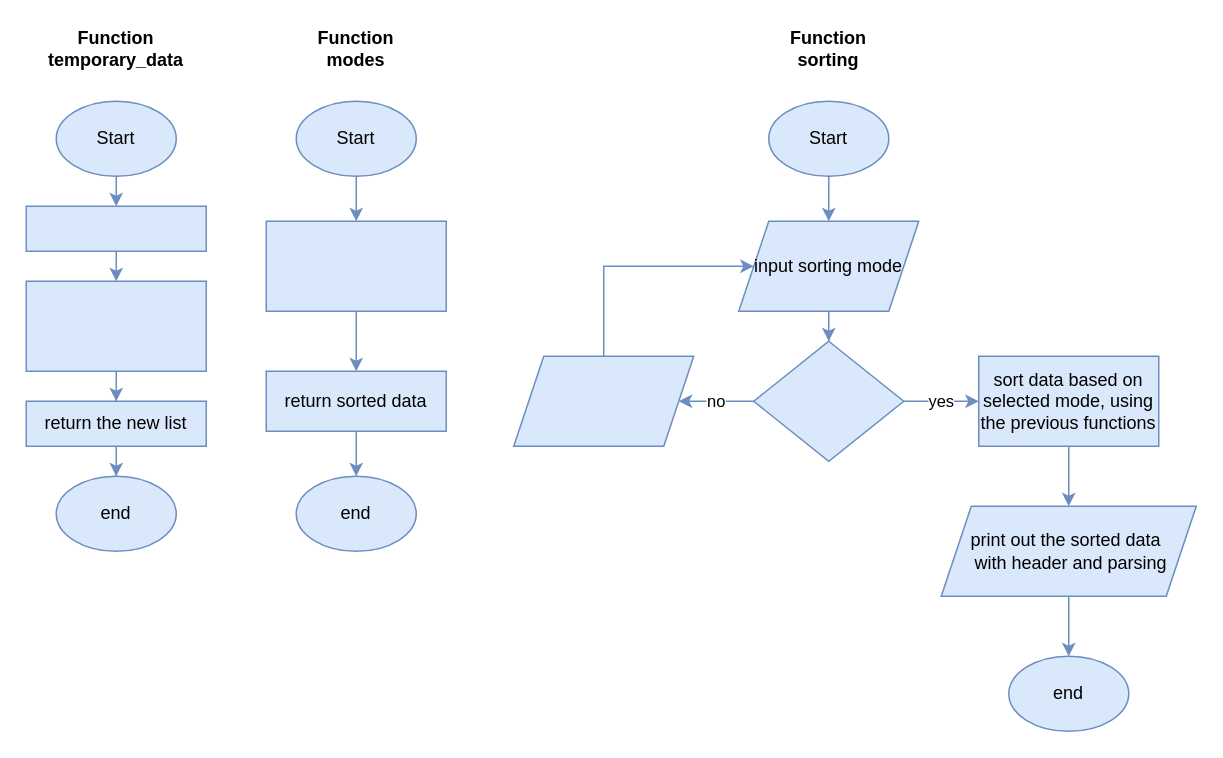
The diagram is 1223 pixels wide and 758 high, and some of its shapes have lost their labels. The centre of each missing label's shape, as x and y in pixels:
copy the data from the parameter to the new list and exclude the header: the point at 115,325
generate new list: the point at 115,228
print out message of failure: the point at 603,400
sort data based on mode in parameter using selection sort algorithm: the point at 355,265
sorting mode valid?: the point at 828,400
